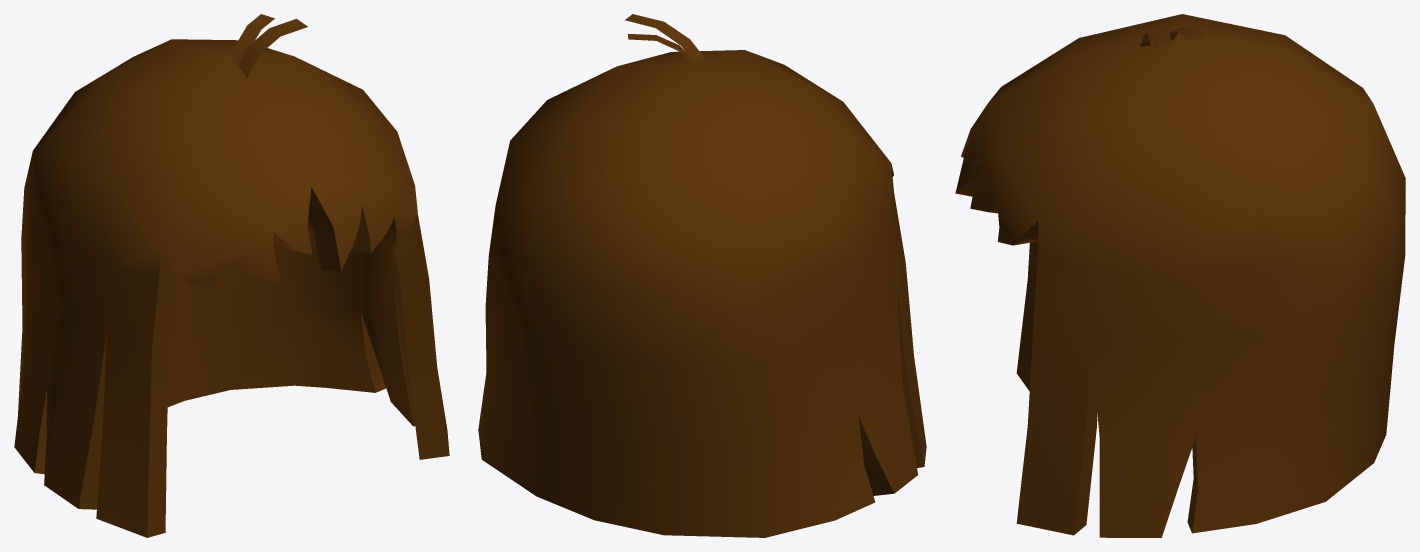
The model's file is Female CP Hair 05.FBX.
3 renders of one model, left to right at view 1: azimuth 30°, elevation 25°; view 2: azimuth 150°, elevation 25°; view 3: azimuth 270°, elevation 25°, orthographic. The views are drawn at different scales.
Visible parts, largest first — view 1: Female CP Hair 05; view 2: Female CP Hair 05; view 3: Female CP Hair 05.
Boxes of the visible parts, left/top/right/bottom form: Female CP Hair 05: left=14, top=14, right=449, bottom=537; Female CP Hair 05: left=478, top=14, right=926, bottom=537; Female CP Hair 05: left=955, top=14, right=1405, bottom=537.
Bounding box in the file's own units: 54.55 × 58.23 × 52.65.
